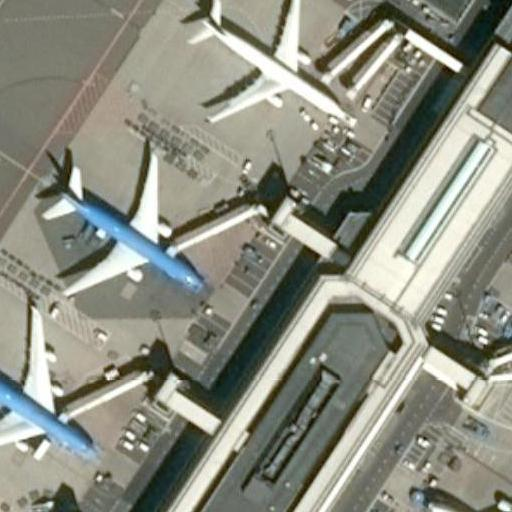Aircraft: (28, 134, 213, 297), (170, 0, 360, 125), (0, 302, 99, 467), (410, 462, 512, 512), (0, 33, 3, 216), (0, 493, 12, 512)
